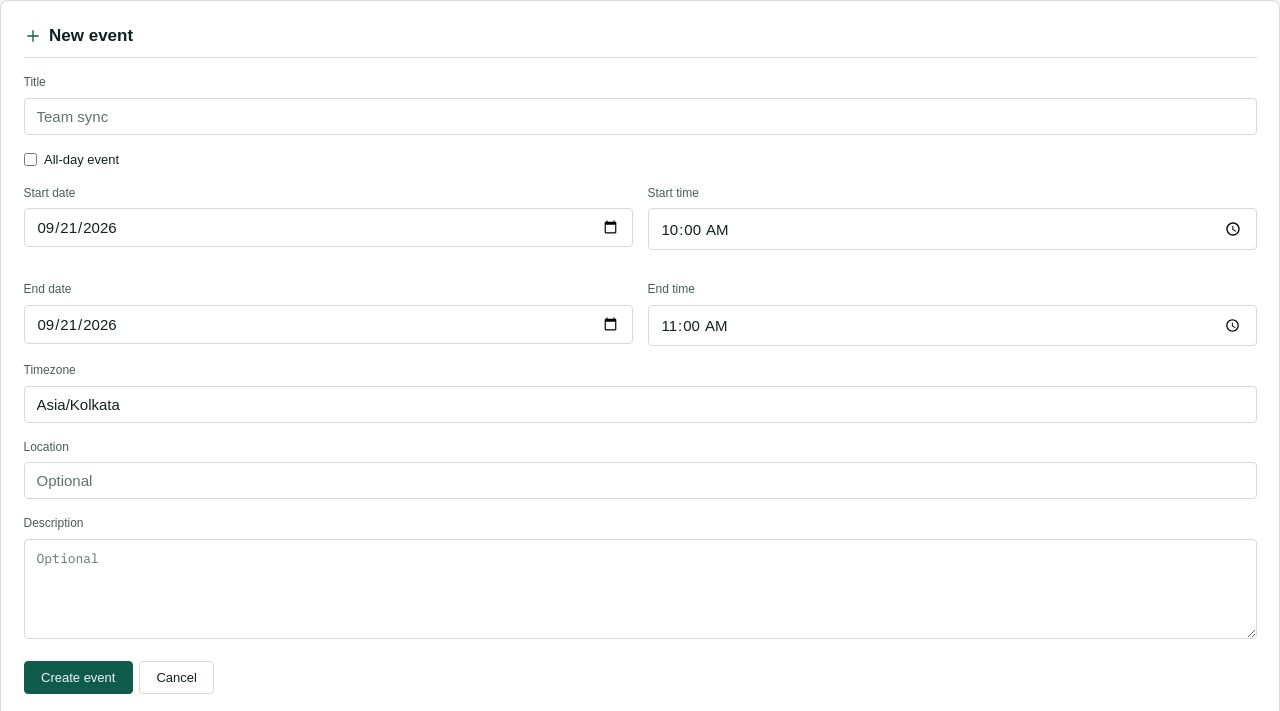
Test case: EventForm › blocks a submit without a title and says why
Click the button "Create event" at (78, 677), box [24,661,133,694]
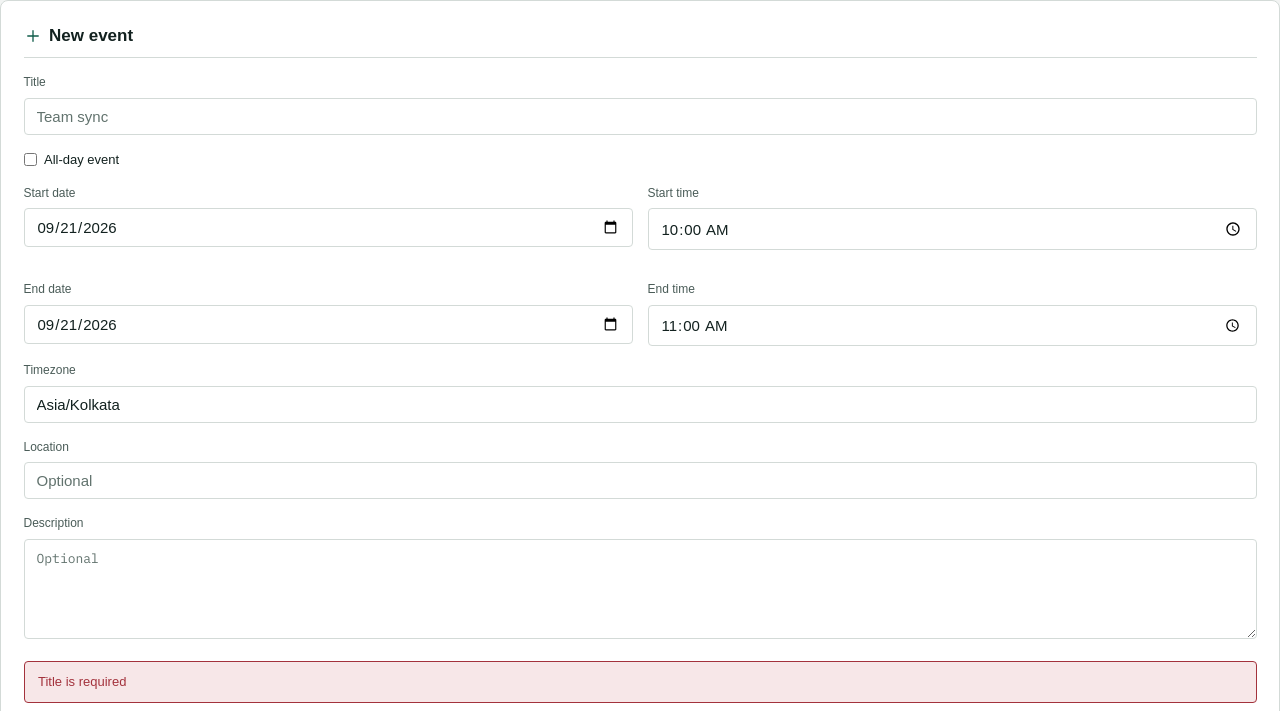
Result: the message reads "Title is required" at [38,674,126,689]
